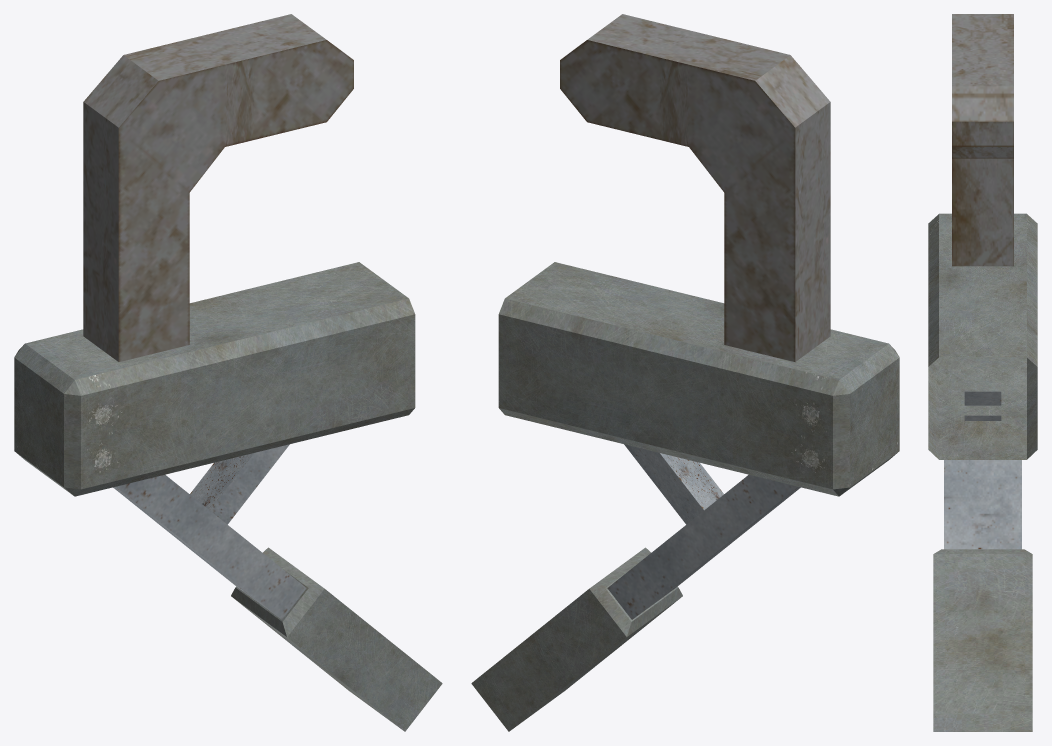
Rendered from Ob_RailingConnector_RC.fbx.
3 views of the same model, side by side, from view 1: azimuth 30°, elevation 25°; view 2: azimuth 150°, elevation 25°; view 3: azimuth 270°, elevation 25° (orthographic). The views are drawn at different scales.
Visible parts, largest first — view 1: Ob_RailingConnector_RC; view 2: Ob_RailingConnector_RC; view 3: Ob_RailingConnector_RC.
Boxes of the visible parts, bbox=[...] form: Ob_RailingConnector_RC: bbox=[14, 14, 442, 731]; Ob_RailingConnector_RC: bbox=[471, 14, 899, 731]; Ob_RailingConnector_RC: bbox=[928, 14, 1037, 731].
Size of the model in its own units: 144 by 257 by 41.34.
